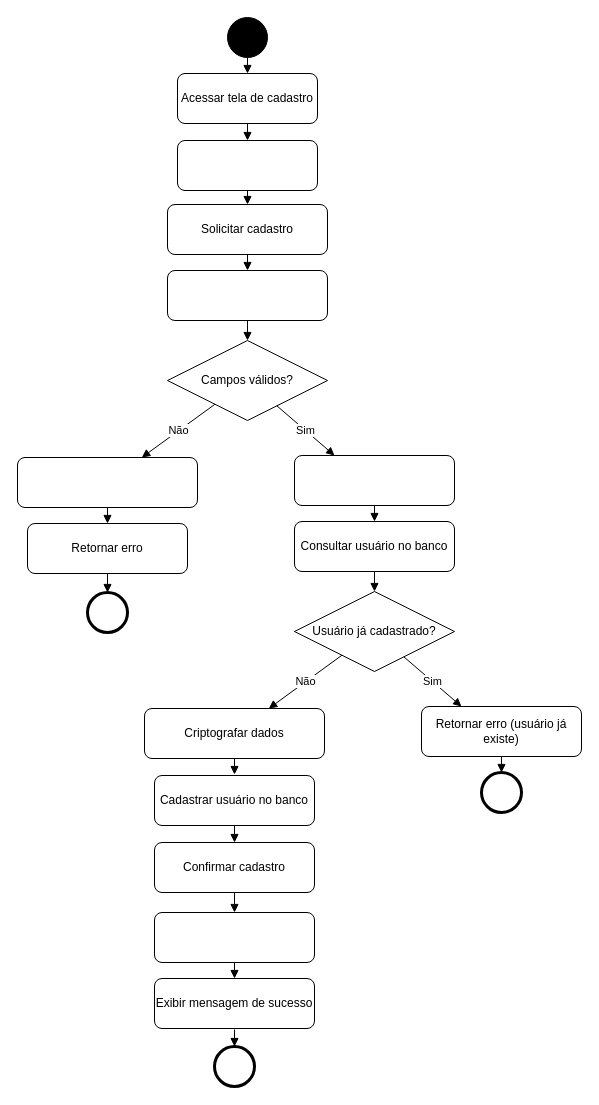
Image size: 599x1105. Some labels were removed from this diagram. The centre of each missing label's shape, as x and y in pixels:
Buscar usuário no sistema: [374,480]
Identificar campo inválido: [107,482]
Preencher dados: [247,165]
Retornar sucesso: [234,937]
Validar campos: [247,295]
